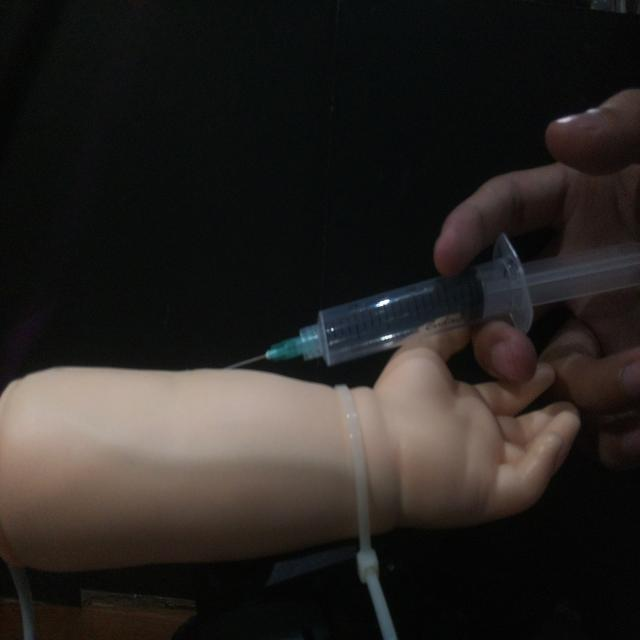15deg: (222, 229, 638, 374)
